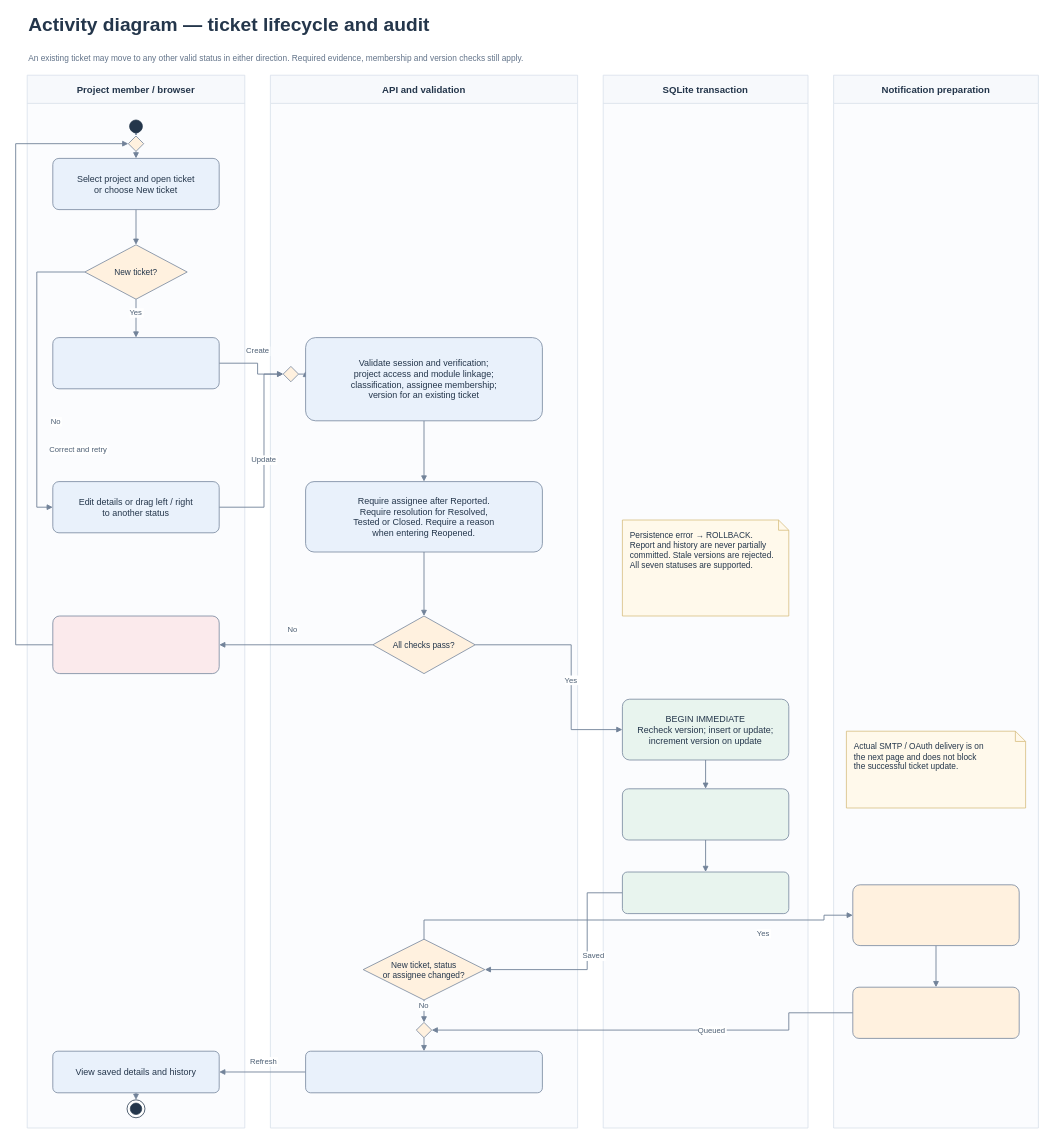
The diagram is 1050 pixels wide and 1139 high, and some of its shapes have lost their labels. The shapes that lost their labels are listed below. From the top down, each one's centre as x and y in pixels, then its label:
At pixel 135 363: "Complete report evidence; initial status = Reported".
At pixel 135 644: "Show validation / conflict error; keep persisted ticket unchanged".
At pixel 705 814: "Append BugChange with actor, UTC time, changed values and note".
At pixel 705 892: "COMMIT report + history together".
At pixel 935 915: "Find verified, opted-in reporter and current assignee; deduplicate".
At pixel 935 1012: "Queue encrypted email; trigger background delivery".
At pixel 423 1071: "Return success; refresh dashboard, register and reports".
